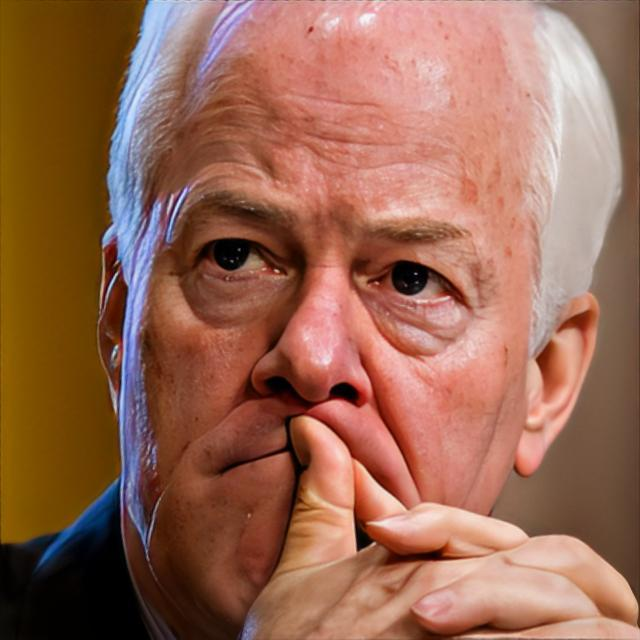anger: (134, 36, 538, 580)
